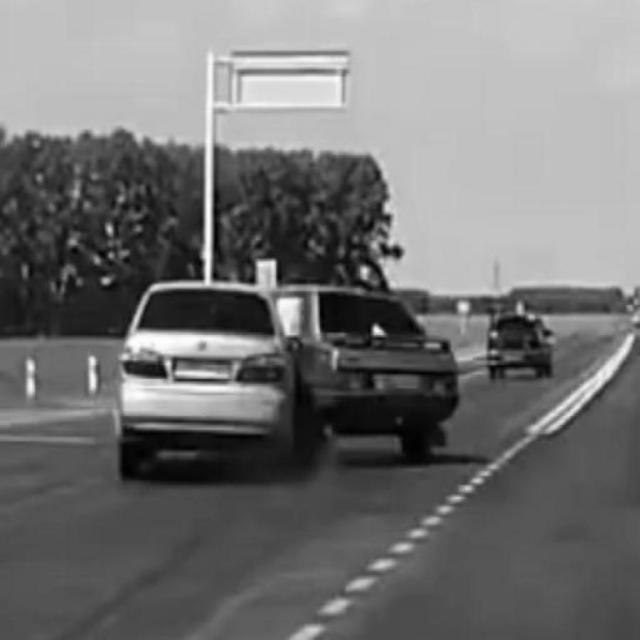accident: (110, 271, 456, 475)
vehicle: (480, 311, 558, 379)
